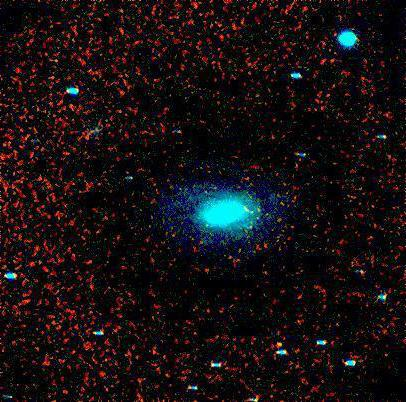star: (265, 329, 295, 359)
